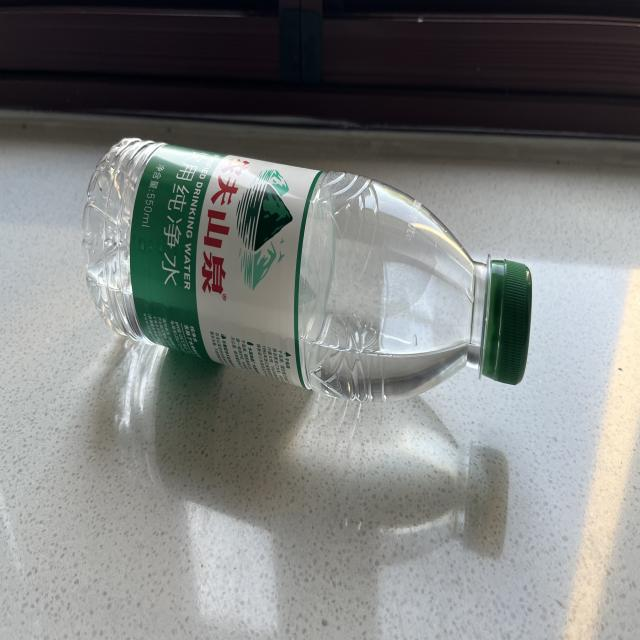medium: (83, 139, 532, 402)
